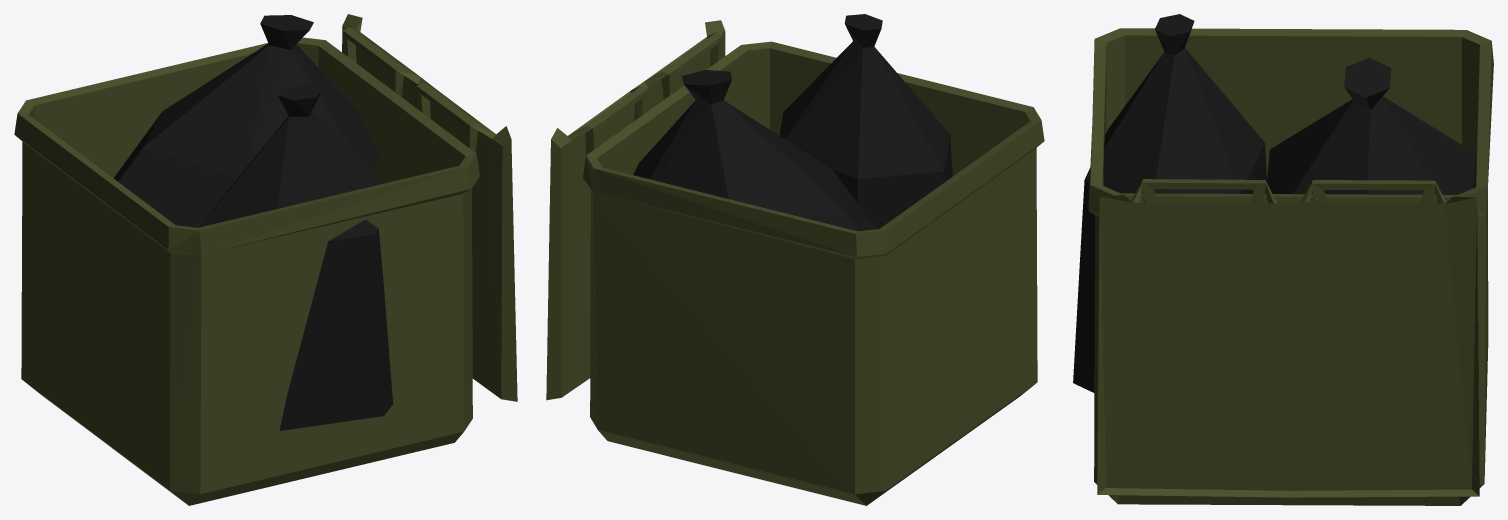
Rendered from model_Kosz_duzy_otwarty.fbx.
3 views of the same model, side by side, from view 1: azimuth 30°, elevation 25°; view 2: azimuth 150°, elevation 25°; view 3: azimuth 270°, elevation 25° (orthographic). The views are drawn at different scales.
Visible parts, largest first — view 1: kosz_otwarty; view 2: kosz_otwarty; view 3: kosz_otwarty.
Boxes of the visible parts, left/top/right/bottom form: kosz_otwarty: left=14, top=14, right=517, bottom=505; kosz_otwarty: left=546, top=14, right=1044, bottom=505; kosz_otwarty: left=1073, top=14, right=1493, bottom=505.
Size of the model in its own units: 135 by 145 by 143.
